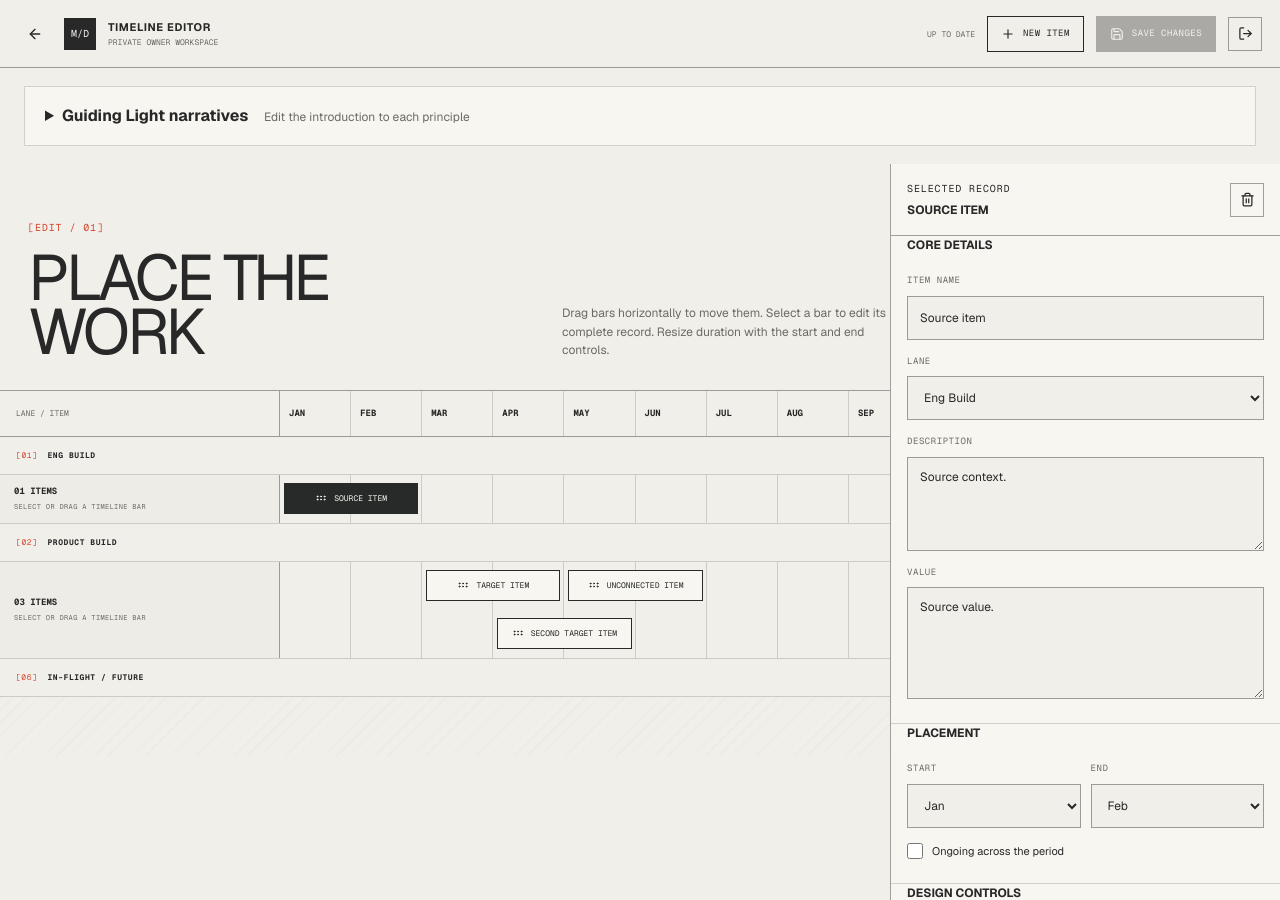
Test case: TimelineEditor Guiding Light narrative drafts › retains the owner's draft when a stale save is rejected
Click the heading "Guiding Light narratives".
click(266, 116)  # box [62,105,470,126]
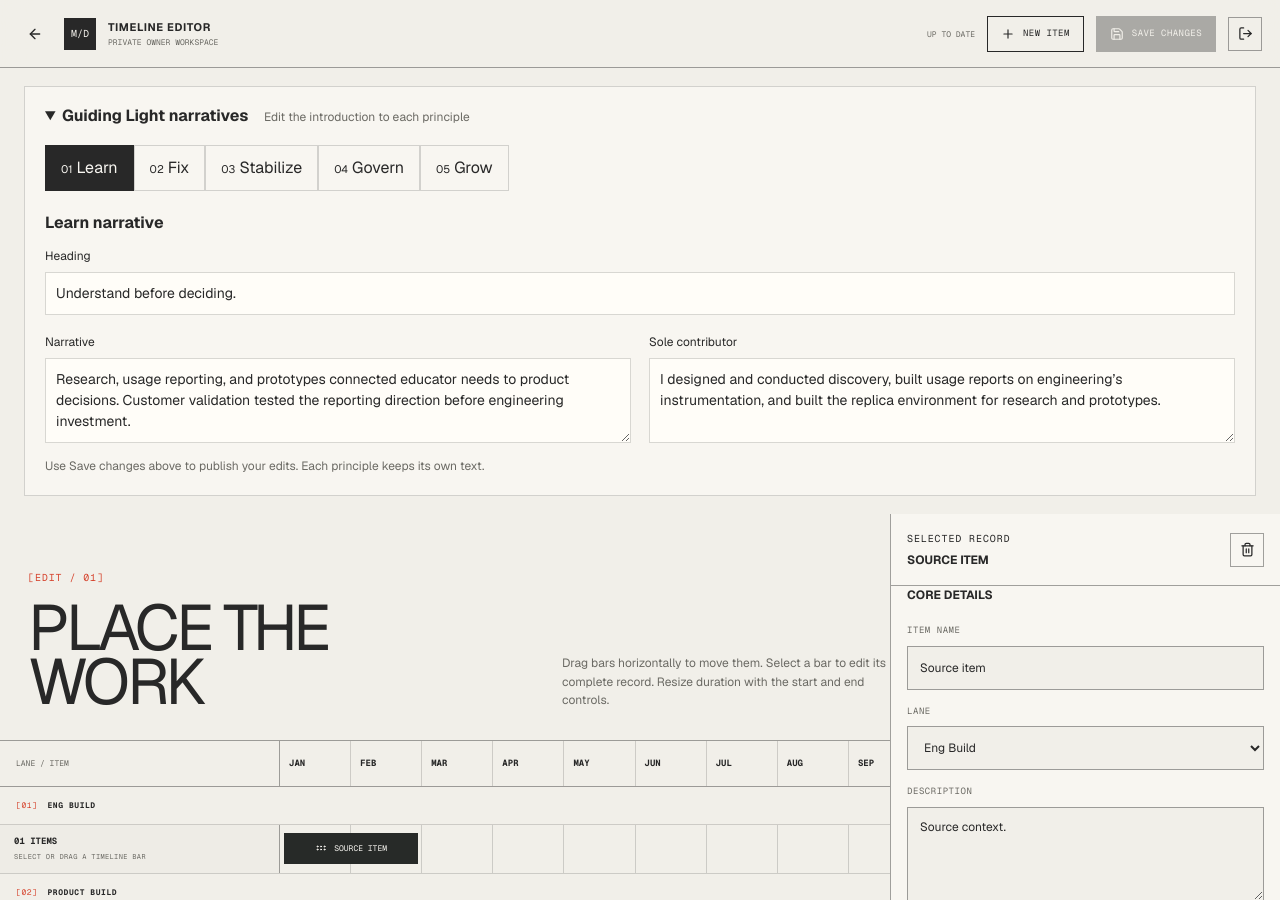
Replace the text in the field labelled "Heading" with "Keep this draft" at (640, 294), box [45,272,1235,315]
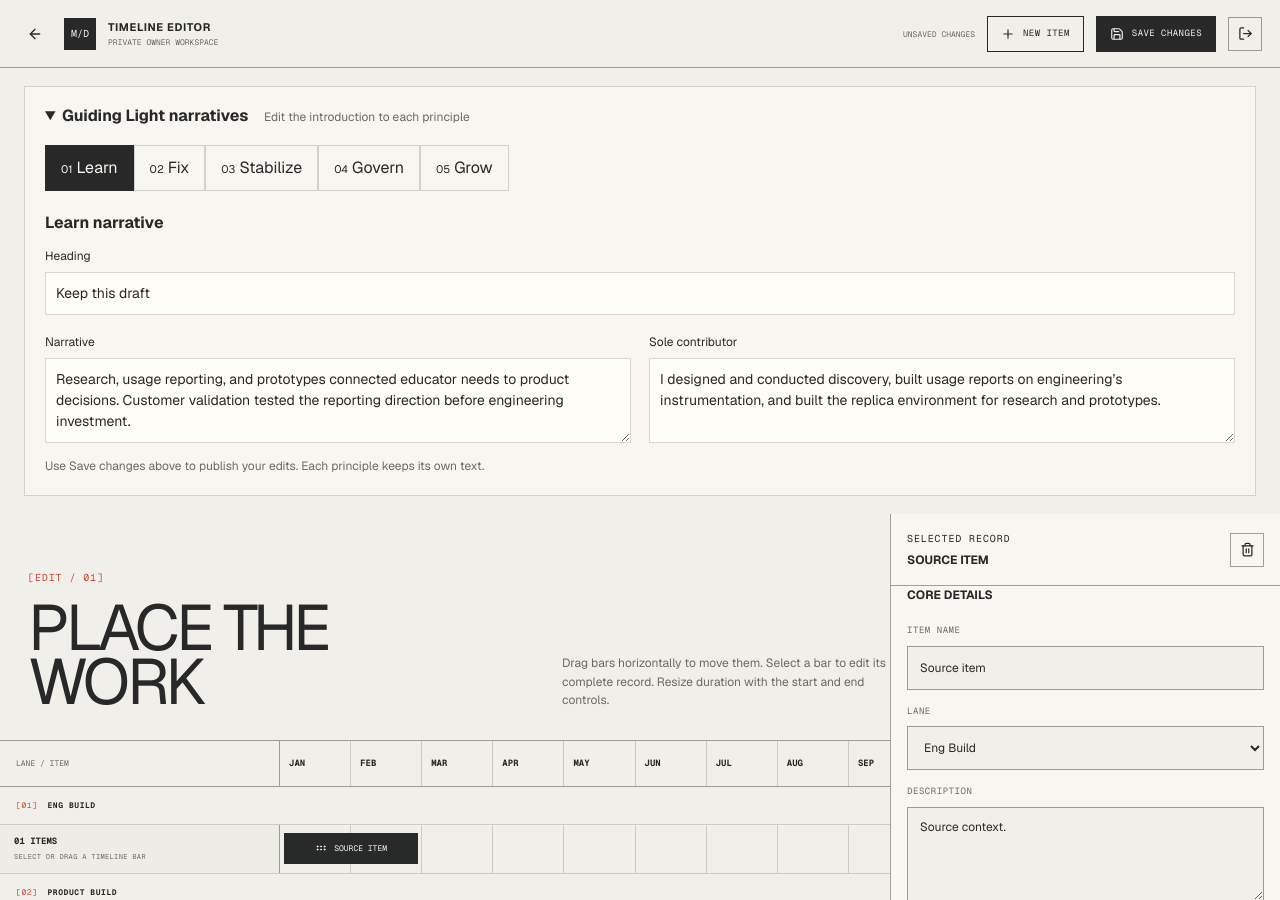
Click the button "Save changes".
click(1156, 34)  # box [1096,16,1216,52]
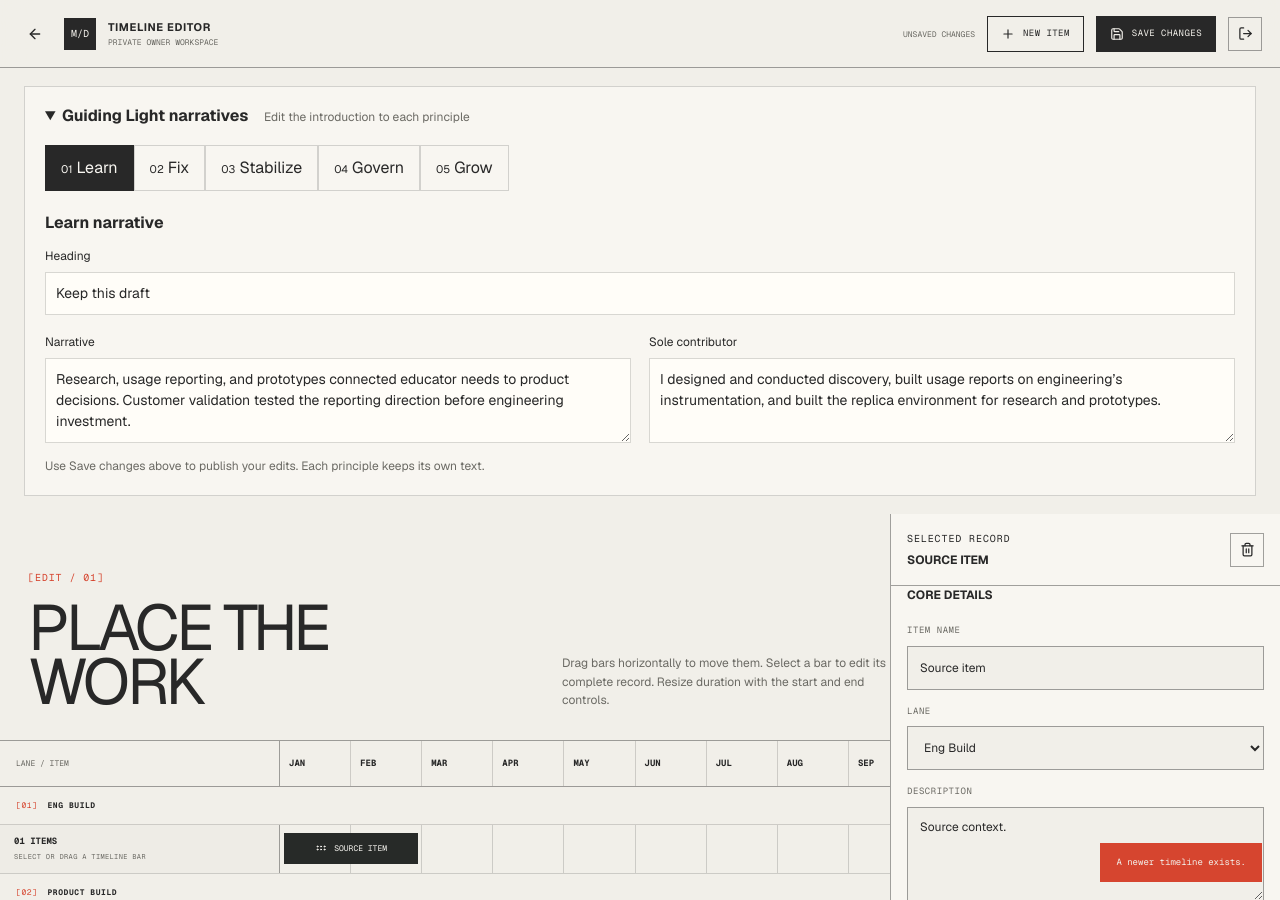
Check: the text "Unsaved changes" is shown, box [903,28,975,40]
Check: the text "A newer timeline exists." is shown, box [1100,842,1262,882]
